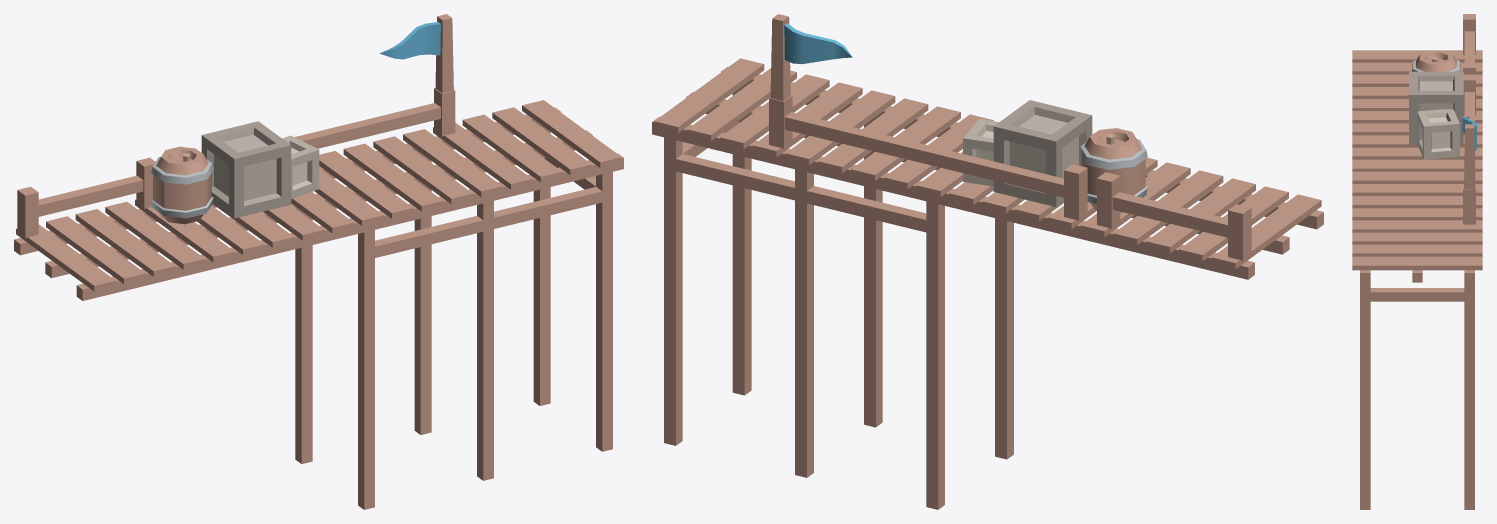
Rendered from docks_part.glb.
The picture shows the model from 3 angles, left to right: view 1: azimuth 30°, elevation 25°; view 2: azimuth 150°, elevation 25°; view 3: azimuth 270°, elevation 25°; orthographic projection. The views are drawn at different scales.
Parts seen in each view (by area): view 1: X_building_docks_blue; view 2: X_building_docks_blue; view 3: X_building_docks_blue.
Part boxes in pixels (x1,y1,x2,y2): X_building_docks_blue: (14, 14, 623, 509); X_building_docks_blue: (652, 14, 1323, 509); X_building_docks_blue: (1352, 14, 1482, 509).
Size of the model in its own units: 2 by 1.44 by 0.5.
